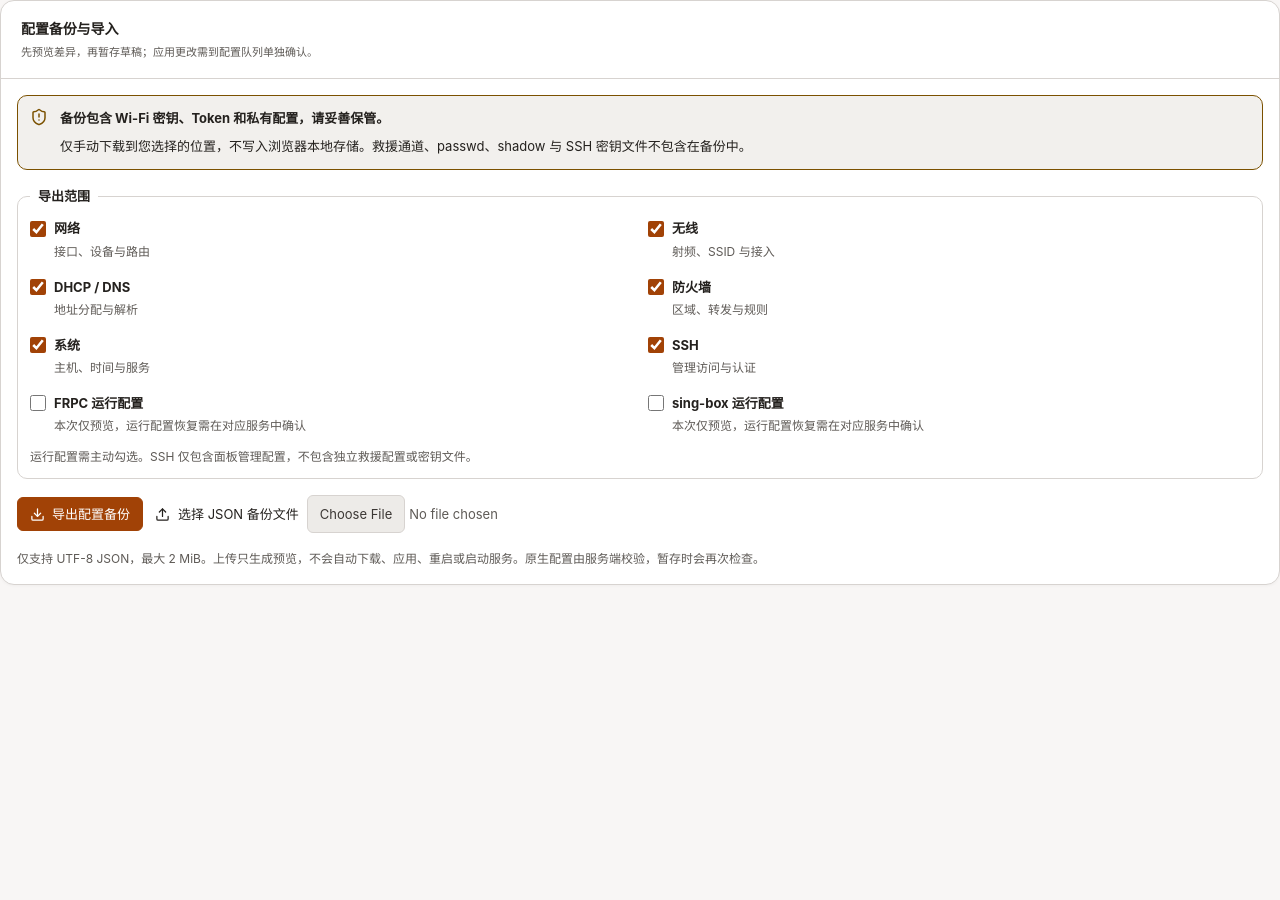
Test: MaintenanceBackupPanel › defaults to six native scopes, opts runtime in explicitly, and manually exports without storage
The image size is (1280, 900).
Expected: the checkbox named "备份sing-box 运行配置" is not checked, [648,395,664,411]
Expected: the checkbox named "备份网络" is checked, [30,221,46,237]
Click the checkbox named "备份FRPC 运行配置".
click(38, 403)  # box [30,395,46,411]
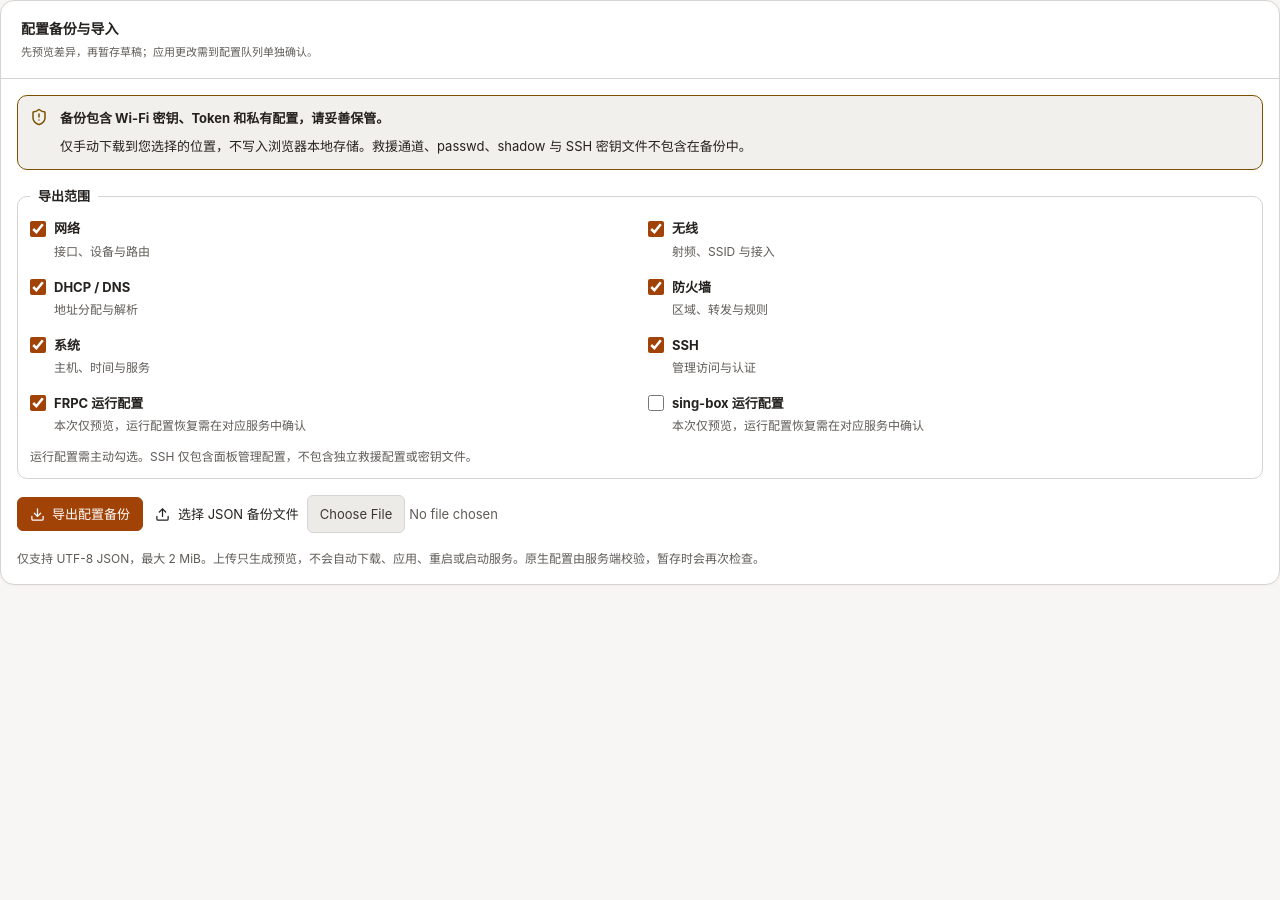
Click the button "导出配置备份".
click(80, 514)  # box [17,497,143,531]
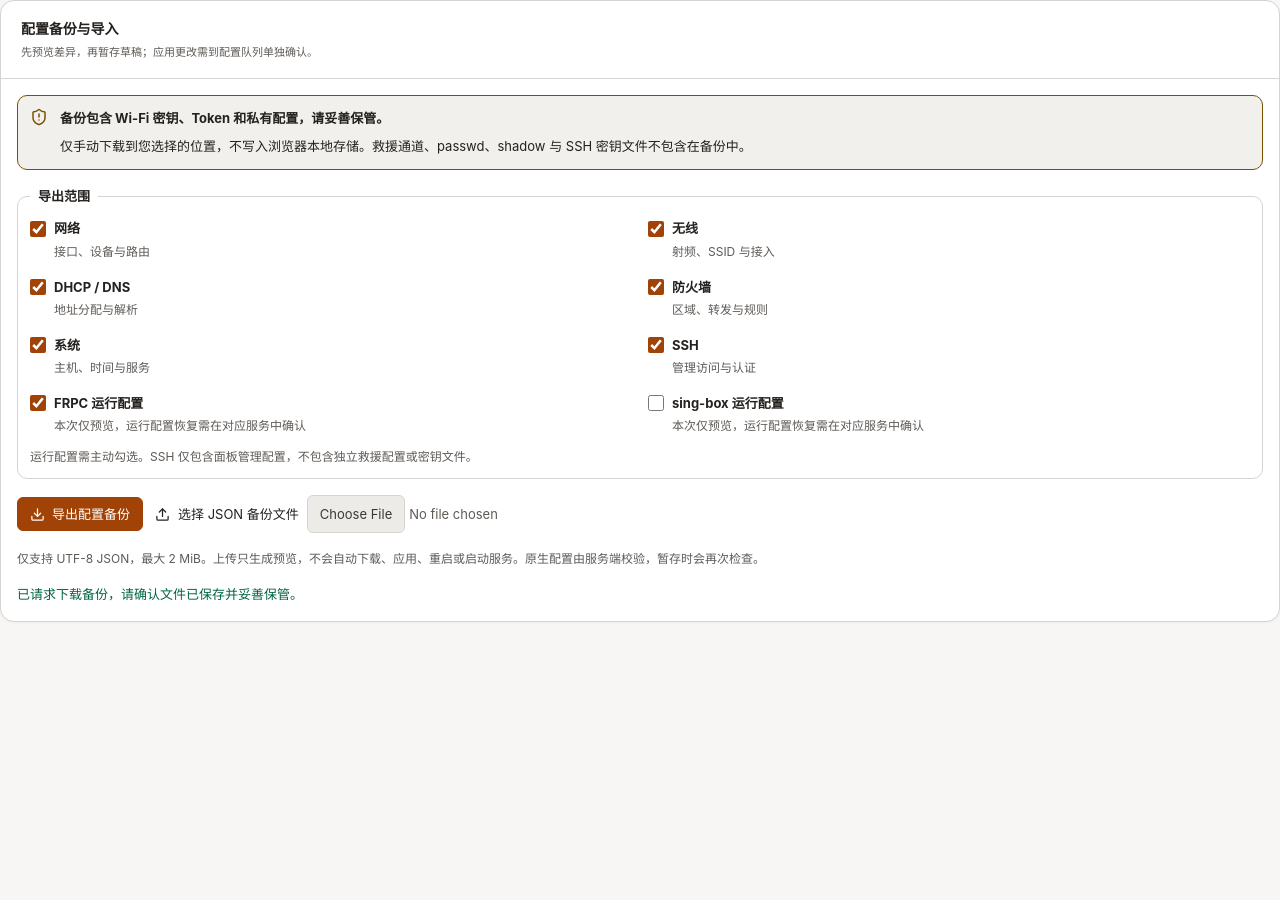
Expected: the text "已请求下载备份，请确认文件已保存并妥善保管。" is shown, [17,586,303,602]
